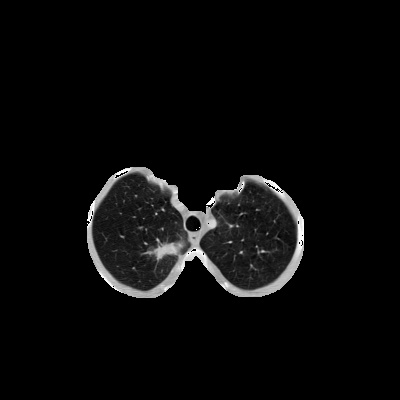PN: (156, 240, 176, 260)
